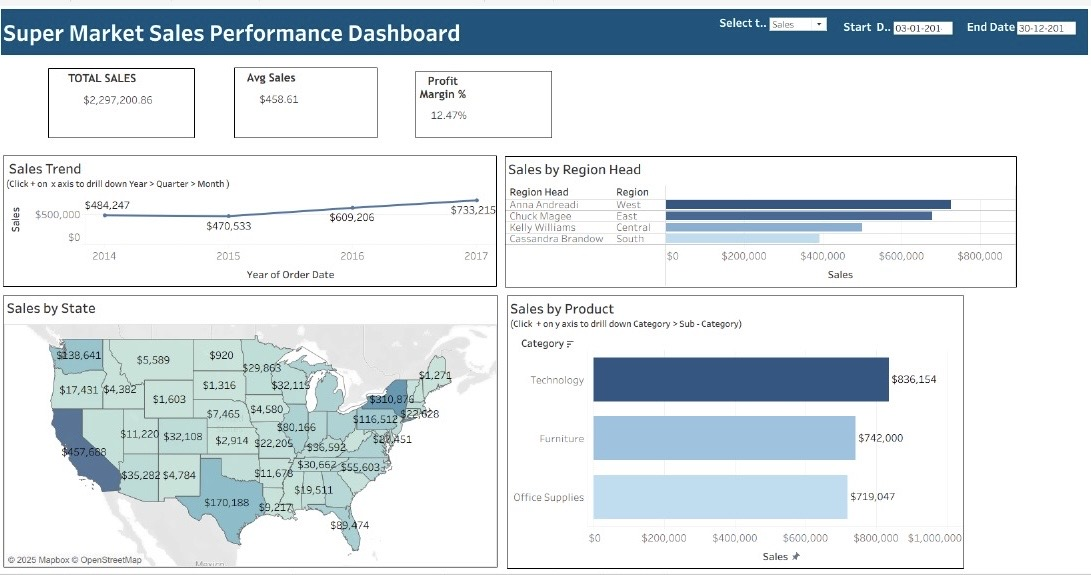

This screenshot's page, from the dashboard's own definition file:
{"tool":"tableau","page":{"name":"Dashboard 1","canvas":[1000,1000],"units":"permille","ordinal":0},"visuals":[{"type":"text","box":[3.5,4.9,984.2,80.7]},{"type":"parameter","param":"[Parameters].[Parameter 1]","box":[654.2,16.7,98.8,53.6]},{"type":"parameter","param":"[Parameters].[Parameter 2]","box":[766.5,23.6,100.6,43.3]},{"type":"parameter","param":"[Parameters].[Parameter 3]","box":[878.3,23.6,100.6,43.3]},{"type":"worksheet","title":"KPI - Total Sales ","mark":"Automatic","box":[39.9,96,145.8,149.6]},{"type":"worksheet","title":"KPI - Average Sales per order ","mark":"Automatic","box":[214.9,108.3,129.8,125]},{"type":"worksheet","title":"KPI - Profit Margin%","mark":"Automatic","box":[379.2,113.8,123.8,118.3]},{"type":"worksheet","title":"Trend","mark":"Automatic","rows":["Calculation_735494174735974400"],"cols":["Order Date"],"box":[5.4,263.4,447,231]},{"type":"worksheet","title":"Region Head","mark":"Automatic","rows":["Person","Region"],"cols":["Calculation_735494174735974400"],"box":[460.1,264.5,463.7,231]},{"type":"worksheet","title":"Map","mark":"Automatic","box":[6,508.9,447,481]},{"type":"worksheet","title":"Product","mark":"Automatic","rows":["Category"],"cols":["Calculation_735494174735974400"],"box":[461.9,510,414.3,482.1]}]}

Visuals, with their boxes on the dashboard's canvas, which has no fixed pixel size, in thousandths of its width and height (x1, y1, x2, y2). These are canvas units, not pixel positions in the 1091x575 screenshot, which may show the page scaled, cropped or inside an application window:
text: box=[4, 5, 988, 86]
parameter: box=[654, 17, 753, 70]
parameter: box=[766, 24, 867, 67]
parameter: box=[878, 24, 979, 67]
"KPI - Total Sales " worksheet: box=[40, 96, 186, 246]
"KPI - Average Sales per order " worksheet: box=[215, 108, 345, 233]
"KPI - Profit Margin%" worksheet: box=[379, 114, 503, 232]
"Trend" worksheet: box=[5, 263, 452, 494]
"Region Head" worksheet: box=[460, 264, 924, 496]
"Map" worksheet: box=[6, 509, 453, 990]
"Product" worksheet: box=[462, 510, 876, 992]
